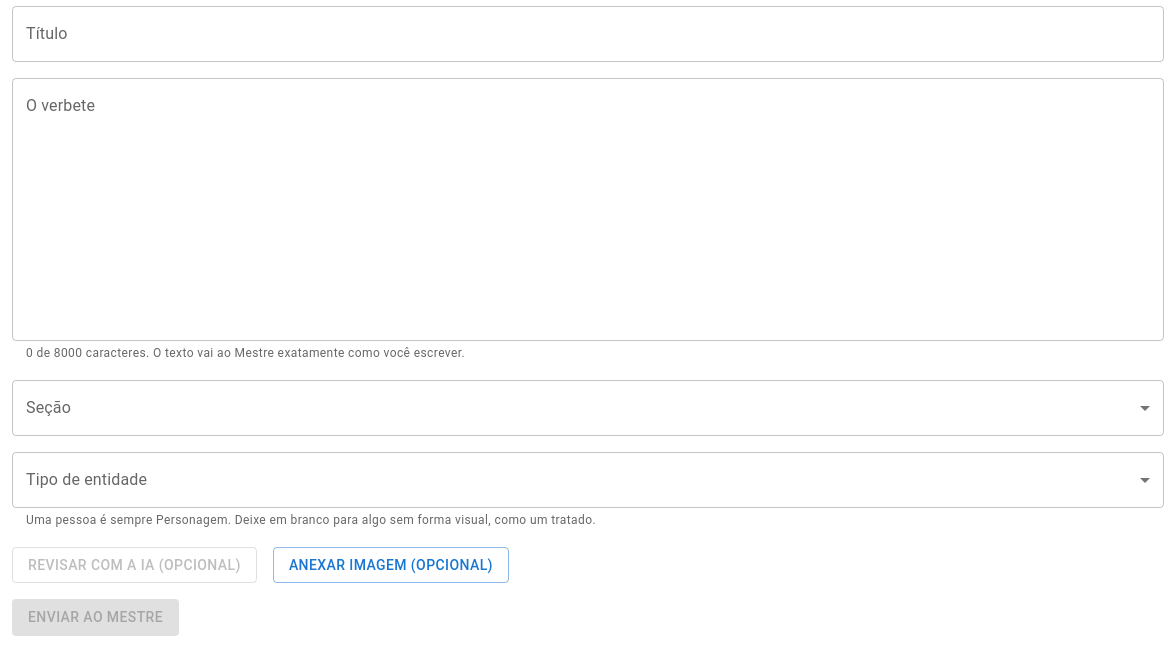
Test case: o que a revisão mostra › diz claramente quando não há nada a apontar
Type "Sera de Vargen" into the field labelled "Título" at (588, 34), box [12, 6, 1164, 62]
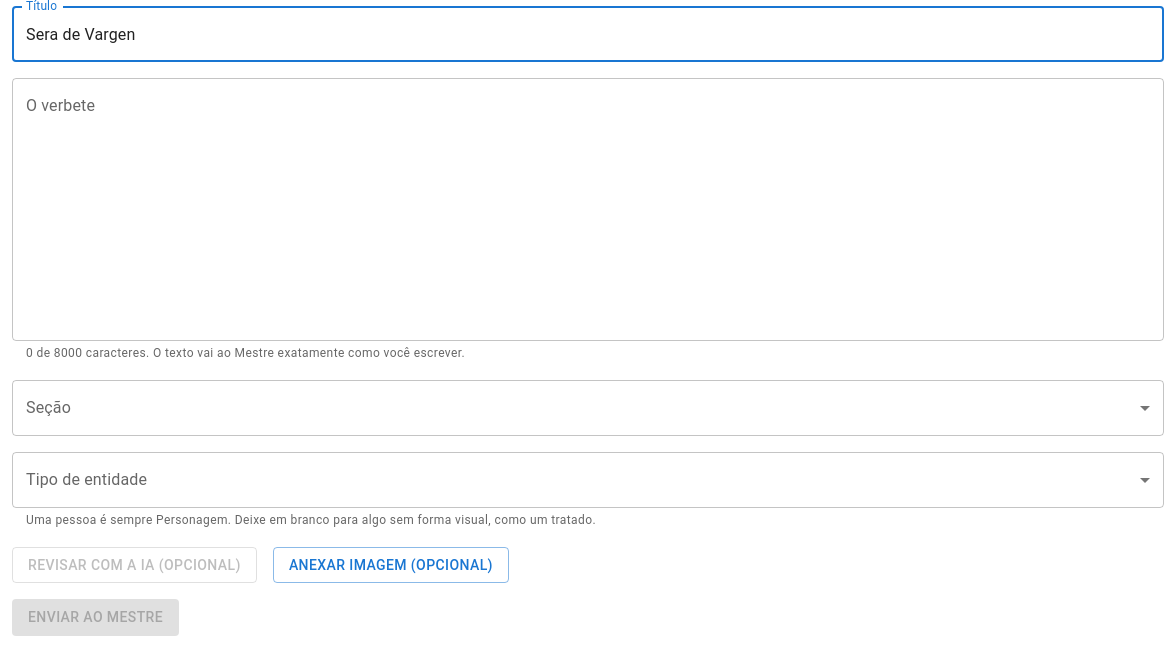
Type "Batedora das fronteiras do Norte, conhecida por atravessar o Muro dos Ausentes sozinha em pleno inverno." into the text box labelled "O verbete" at (588, 210), box [26, 94, 1150, 324]
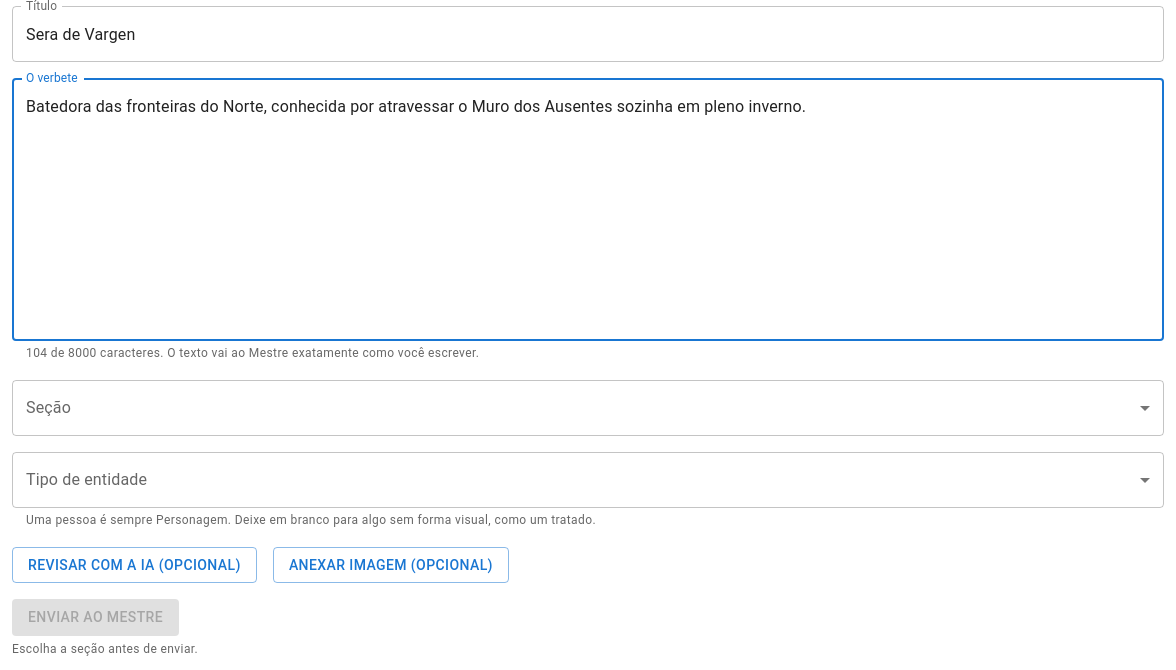
Click the button "Revisar com a IA (opcional)" at (134, 565), box [12, 547, 257, 583]
(page scrolled)
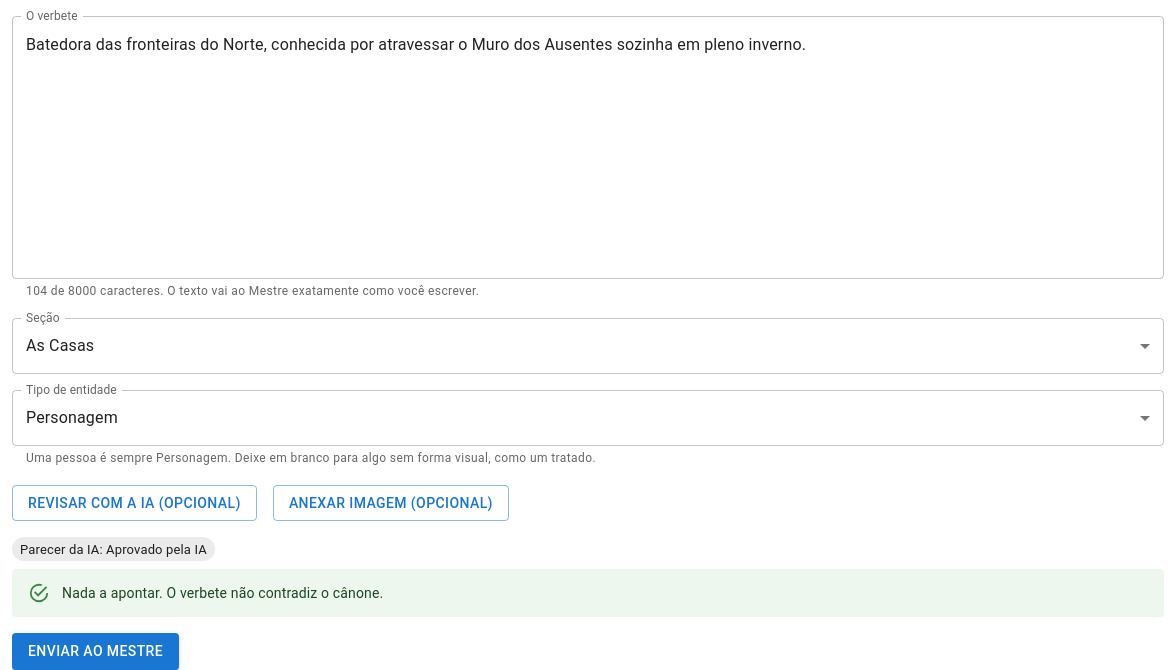
Expected: the text "Nada a apontar. O verbete não contradiz o cânone." is shown, [62, 585, 383, 601]
